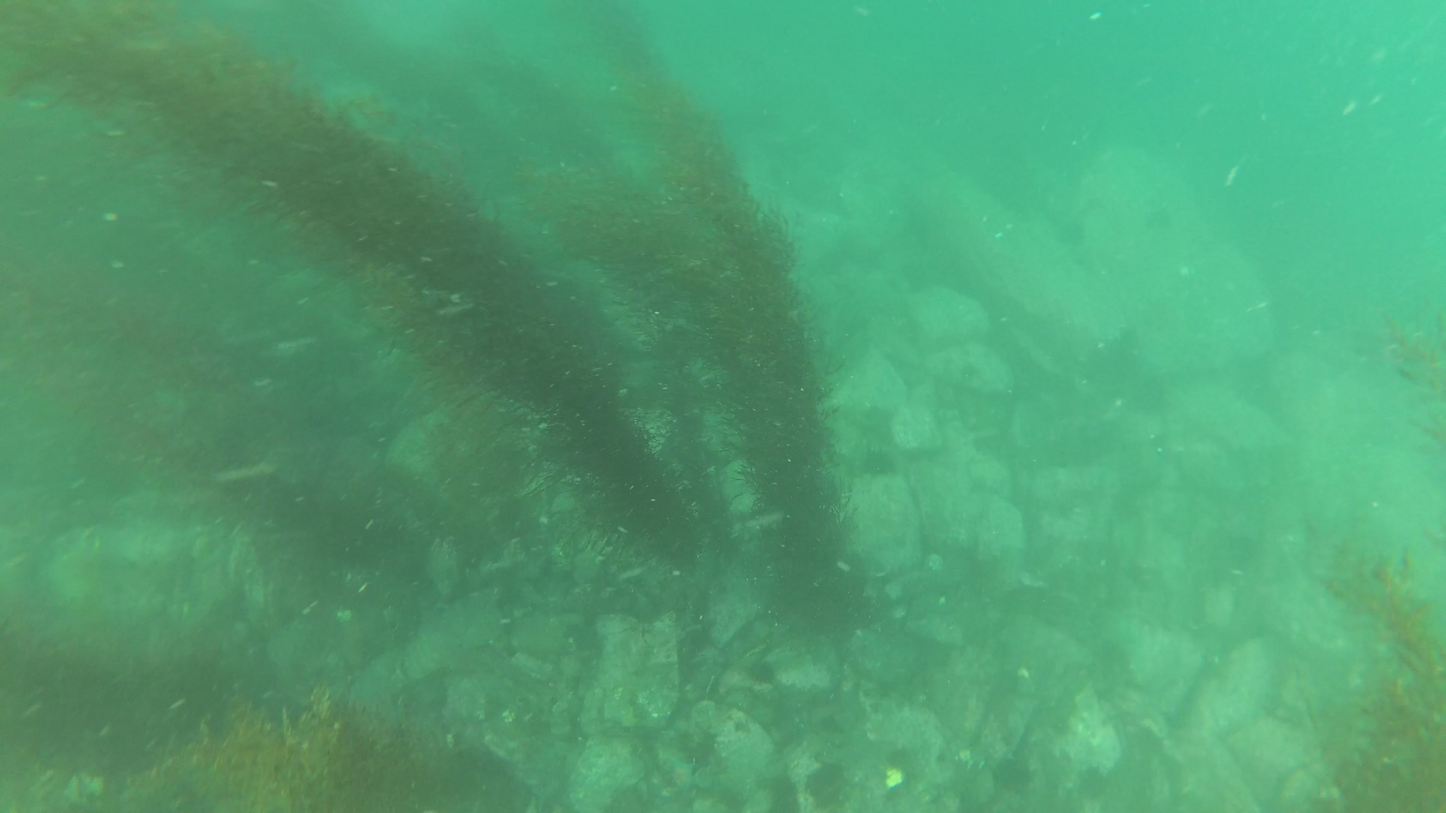starfish: (987, 757, 1035, 795), (854, 442, 898, 483)
